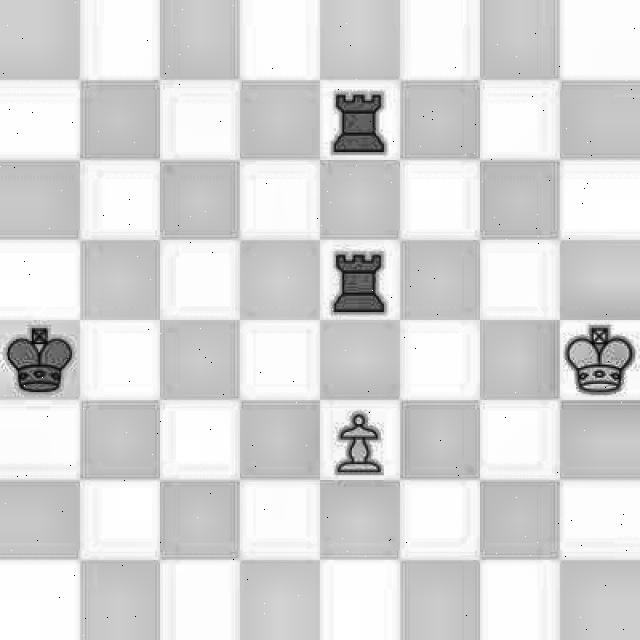black king: (0, 316, 82, 394)
black rook: (322, 83, 398, 159), (326, 244, 394, 314)
white king: (562, 320, 638, 400)
white pawn: (330, 405, 396, 477)
